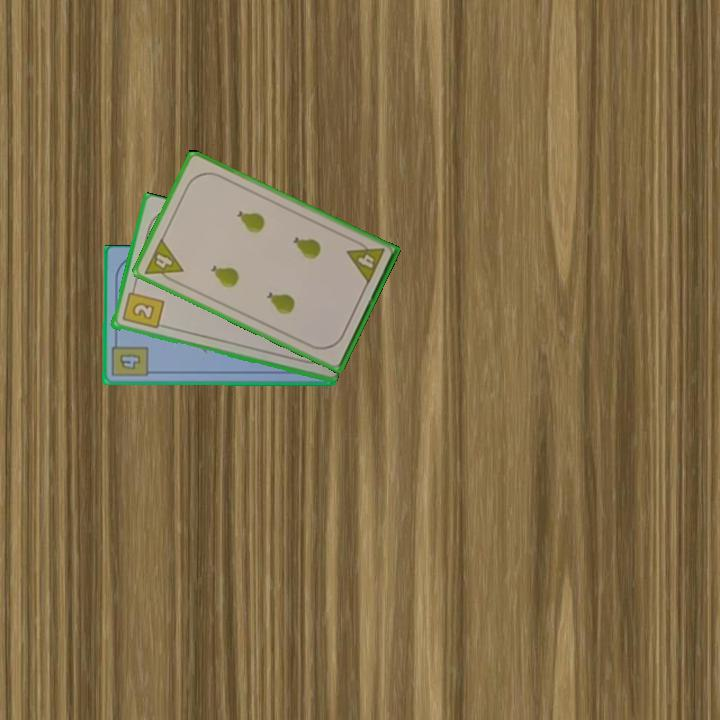2b: (119, 283, 166, 332)
4b: (109, 336, 151, 380)
4p: (141, 235, 186, 287), (343, 236, 387, 287)
